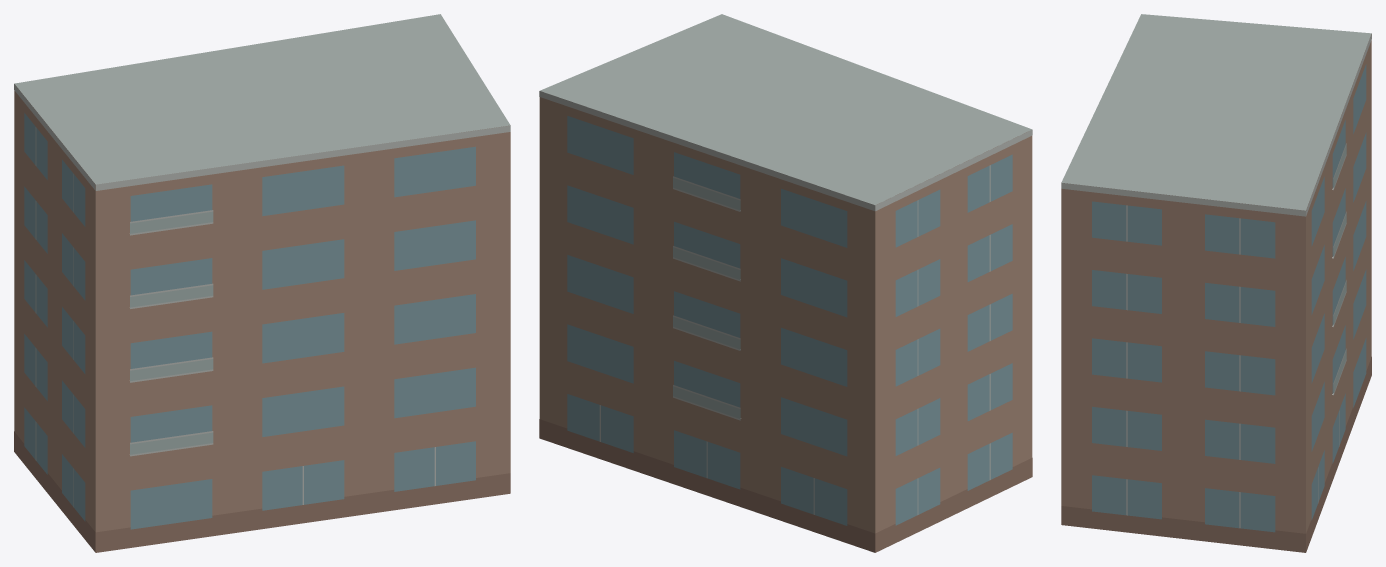
The model's file is survey-upis-32976836.glb.
3 views of the same model, side by side, from view 1: azimuth 30°, elevation 25°; view 2: azimuth 150°, elevation 25°; view 3: azimuth 270°, elevation 25° (orthographic). The views are drawn at different scales.
Visible parts, largest first — view 1: survey-upis-32976836.tmp; view 2: survey-upis-32976836.tmp; view 3: survey-upis-32976836.tmp.
Boxes of the visible parts, bbox=[...] form: survey-upis-32976836.tmp: bbox=[14, 14, 510, 552]; survey-upis-32976836.tmp: bbox=[539, 14, 1032, 552]; survey-upis-32976836.tmp: bbox=[1061, 14, 1371, 552].
Size of the model in its own units: 17.2 by 13.95 by 11.48.
